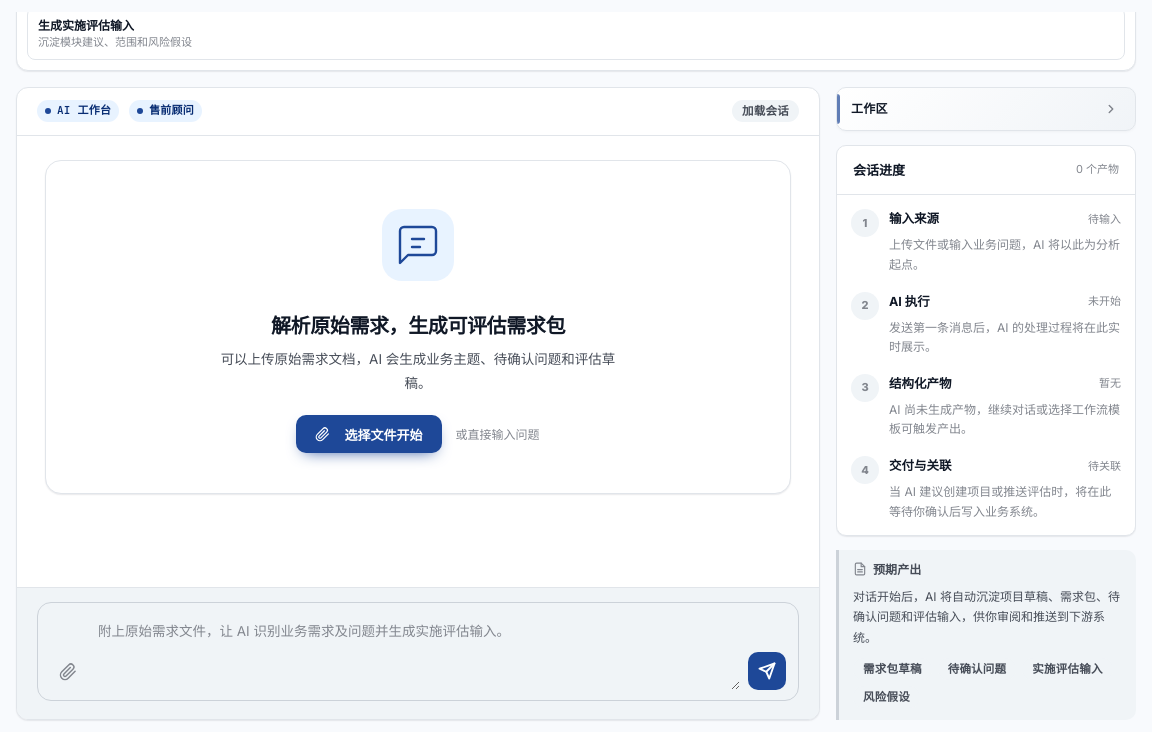
AiHomeWorkbench › renders markdown tables in AI answers as structured tables
(page scrolled)
In the text box: coordinates (417, 652) [94, 614, 740, 690], type "请输出模块建议表"
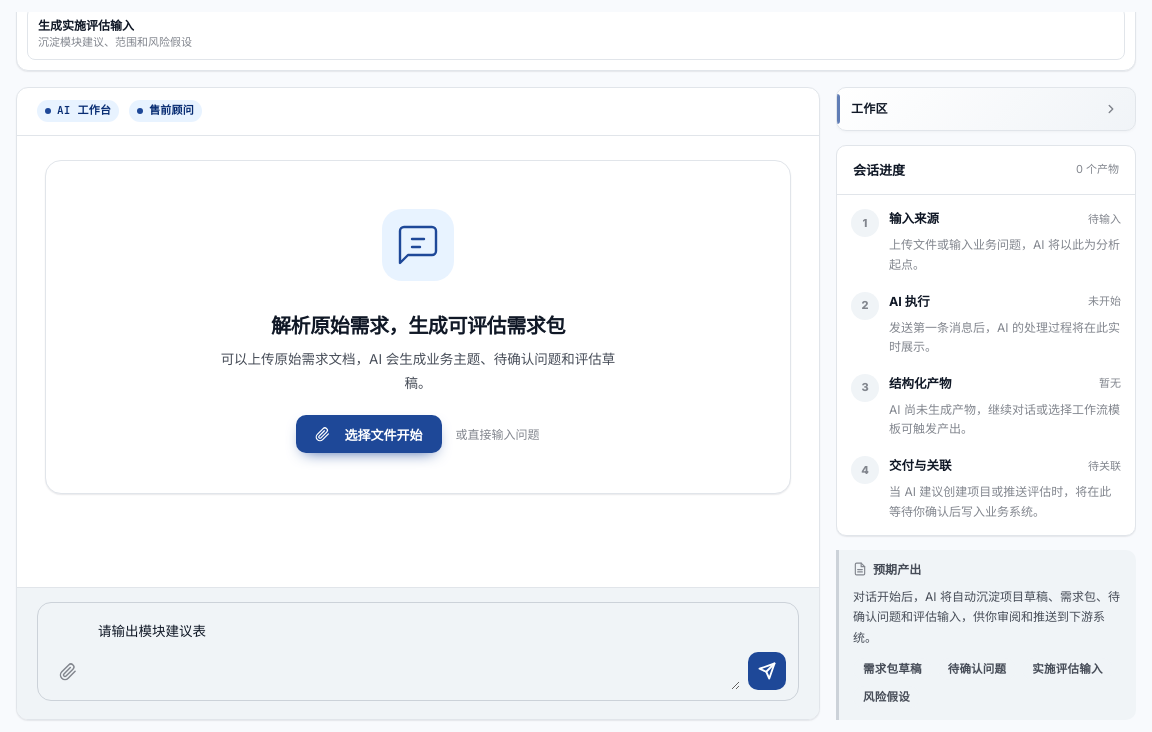
Click the button named "发送消息": coordinates (767, 671) [748, 652, 786, 690]
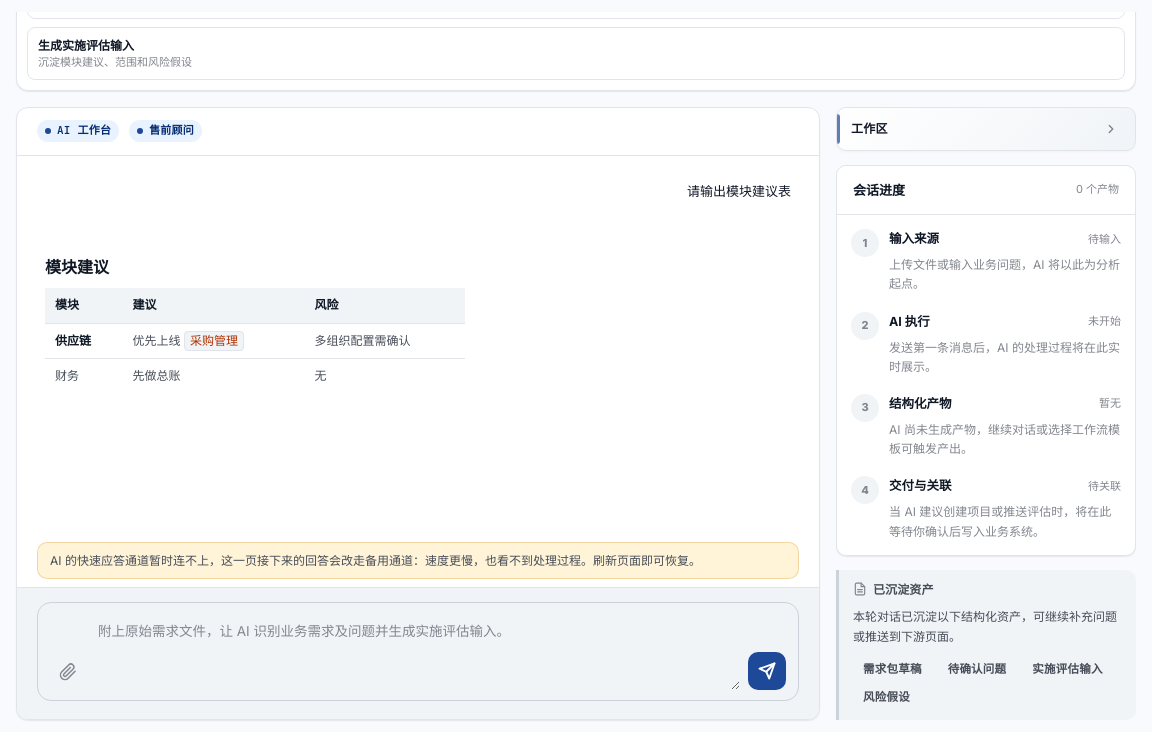
expect the column heading "模块" is shown: met, box [45, 288, 122, 323]
expect the column heading "建议" is shown: met, box [122, 288, 304, 323]
expect the cell "供应链" is shown: met, box [45, 323, 122, 359]
